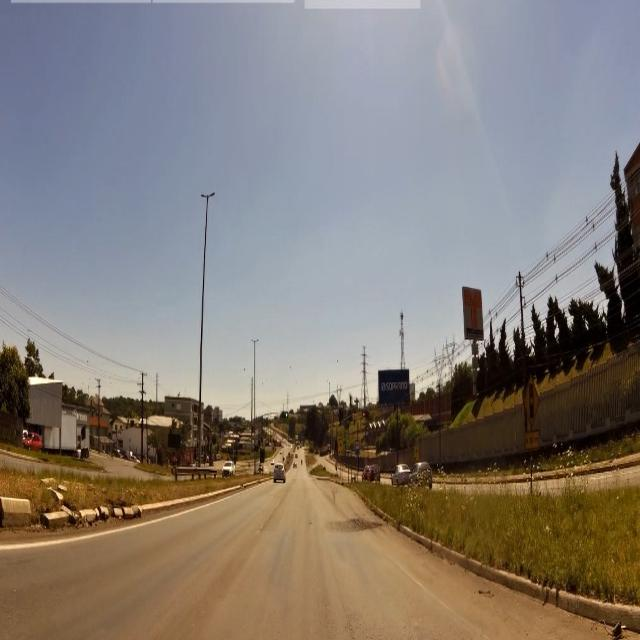A-14: (523, 377, 544, 425)
